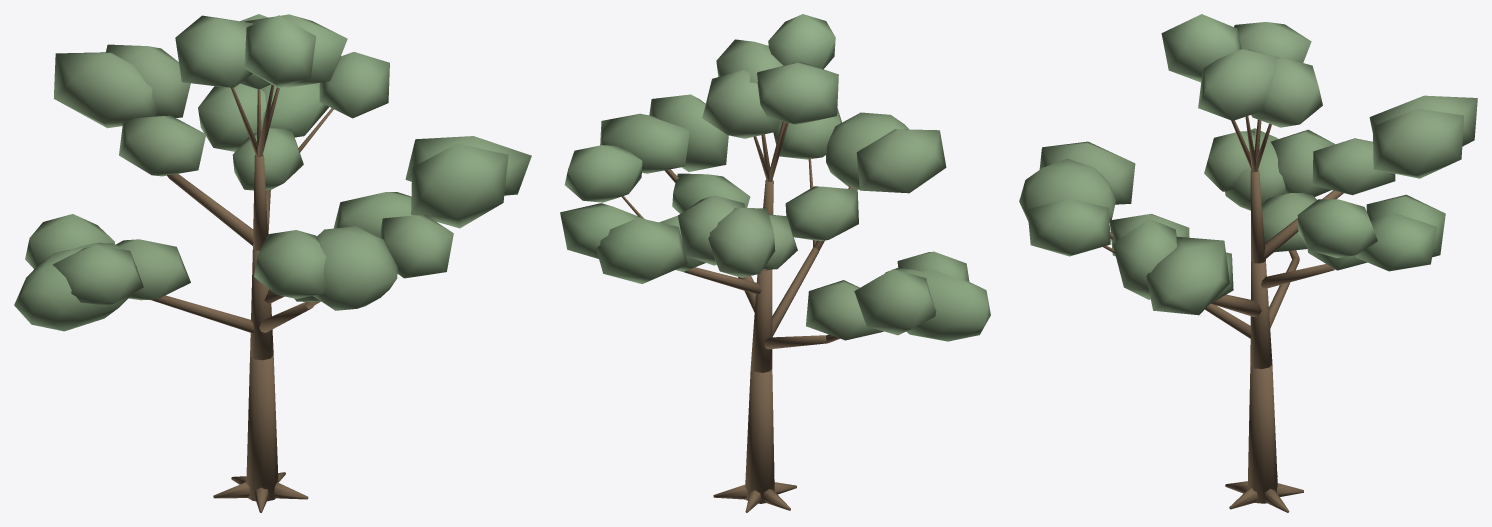
File: ornamental_small_a.glb
3 renders of one model, left to right at view 1: azimuth 30°, elevation 25°; view 2: azimuth 150°, elevation 25°; view 3: azimuth 270°, elevation 25°, orthographic. The views are drawn at different scales.
Visible parts, largest first — view 1: ornamental_small_a; view 2: ornamental_small_a; view 3: ornamental_small_a.
Part boxes in pixels (x1=…): ornamental_small_a: x1=14, y1=14, x2=531, y2=512; ornamental_small_a: x1=560, y1=14, x2=990, y2=512; ornamental_small_a: x1=1019, y1=14, x2=1477, y2=512.
Size of the model in its own units: 5.2 by 5.4 by 4.7.
